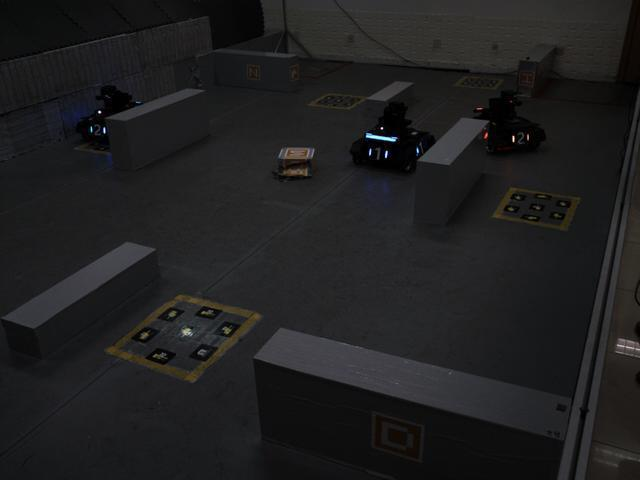armor: (364, 141, 392, 164), (511, 126, 533, 150), (87, 121, 109, 140)
